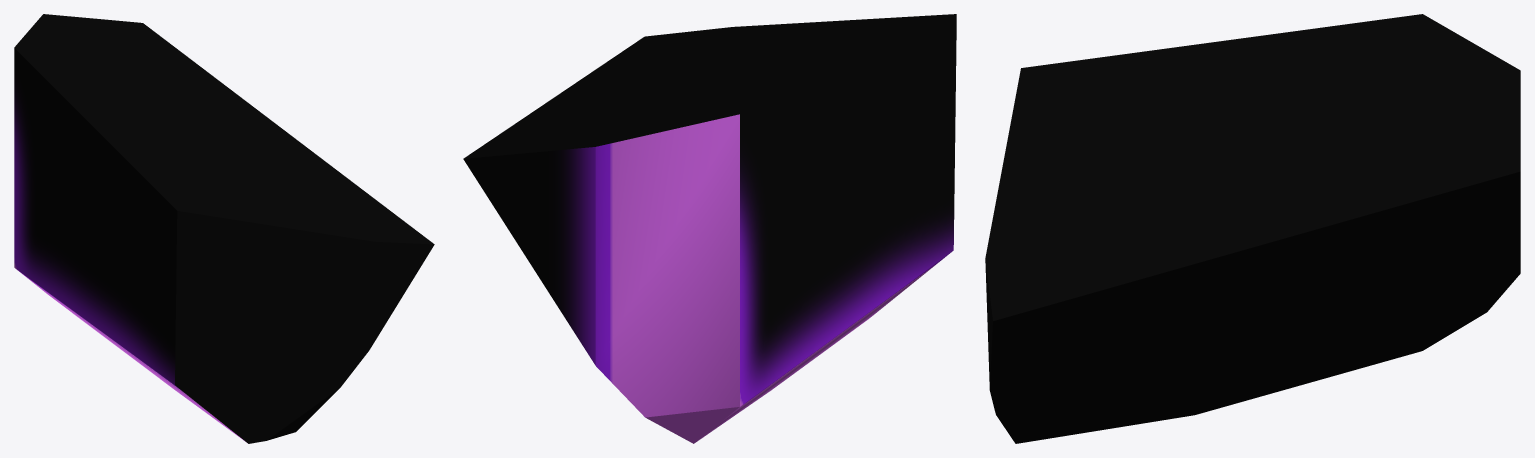
Rendered from blockParticle_11.obj.
3 views of the same model, side by side, from view 1: azimuth 30°, elevation 25°; view 2: azimuth 150°, elevation 25°; view 3: azimuth 270°, elevation 25° (orthographic). The views are drawn at different scales.
Parts seen in each view (by area): view 1: 立方体_cell.012; view 2: 立方体_cell.012; view 3: 立方体_cell.012.
Part boxes in pixels (x1,y1,x2,y2): 立方体_cell.012: (14,14,434,443); 立方体_cell.012: (463,14,956,443); 立方体_cell.012: (985,14,1520,443).
Size of the model in its own units: 0.7586 by 0.8601 by 1.16.
2 materials, 2 textured.
